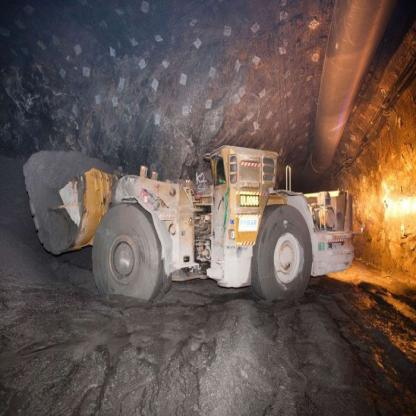bull_dozer/loader/grader: (27, 108, 406, 328)
